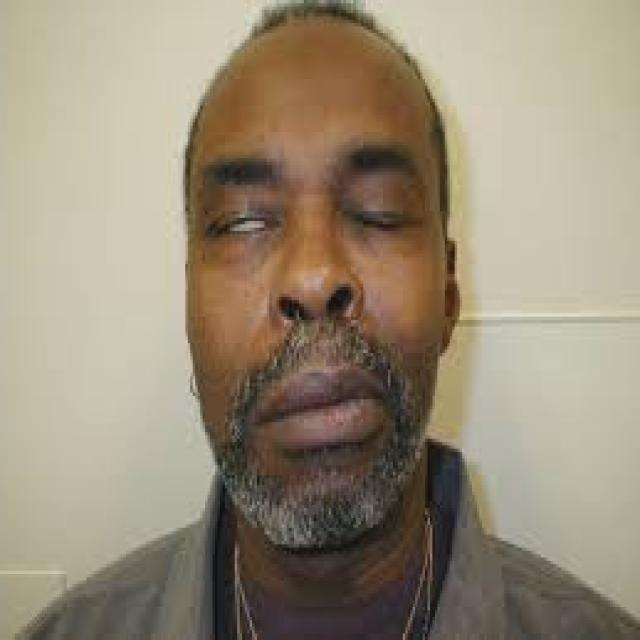stroke_face: (183, 3, 455, 559)
